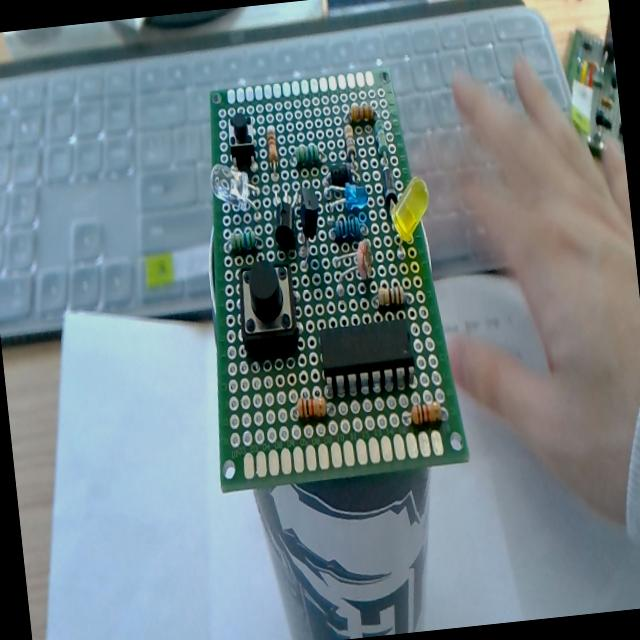IC: (318, 312, 417, 396)
cds: (331, 238, 375, 286)
diode: (381, 168, 399, 214), (328, 161, 355, 188)
led: (386, 174, 433, 244), (207, 159, 253, 215), (322, 180, 372, 217)
resistor: (330, 212, 368, 243), (296, 393, 328, 420), (228, 226, 256, 254), (411, 400, 442, 425), (376, 282, 404, 308), (293, 142, 320, 167), (346, 101, 374, 125), (265, 126, 279, 166), (343, 122, 357, 159), (373, 124, 388, 158)
switch: (236, 258, 300, 359), (226, 110, 258, 172)
transistor: (290, 184, 324, 266), (272, 198, 297, 250)
